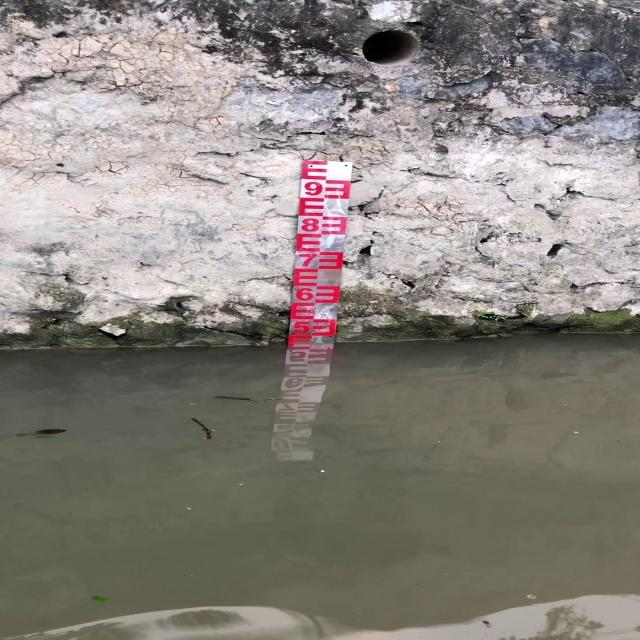ruler: (283, 154, 358, 348)
value: (299, 178, 326, 199), (293, 250, 320, 270), (297, 215, 322, 235), (291, 283, 316, 303), (288, 318, 314, 337)
